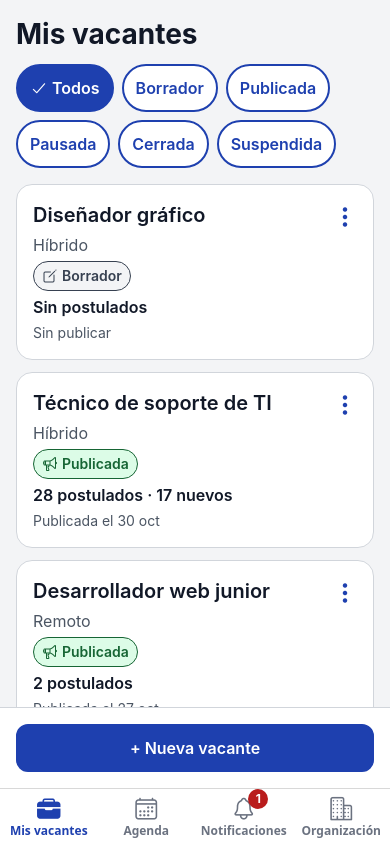
Test case: navegación por rol › tocar una vacante abre REC-04 con su id
Click the button with test id "abrir-vacante-6". click: (152, 591)
box: [17, 561, 321, 735]
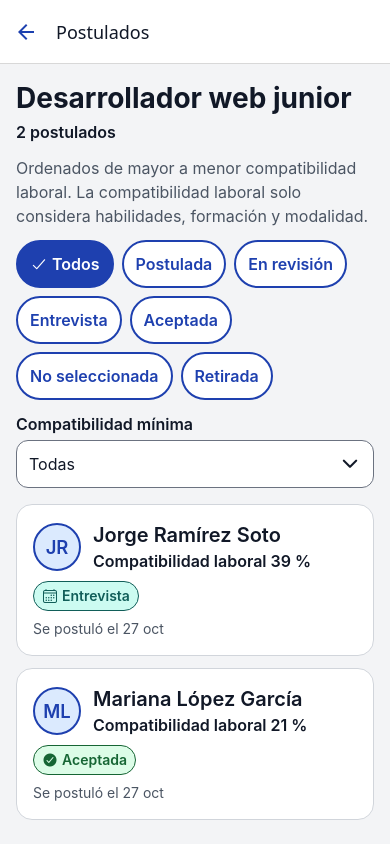
Check: the heading "Desarrollador web junior" is shown, box [16, 80, 374, 116]
Check: the element with test id "lista-postulados" is shown
